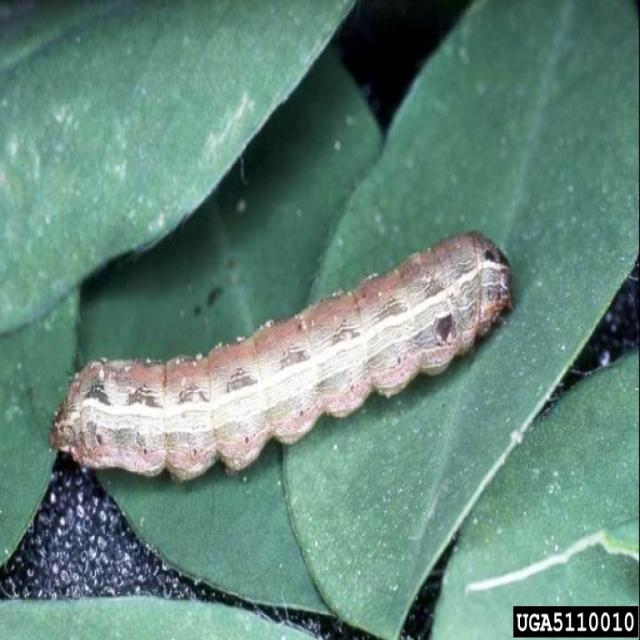pest-armyworm: (48, 226, 518, 491)
